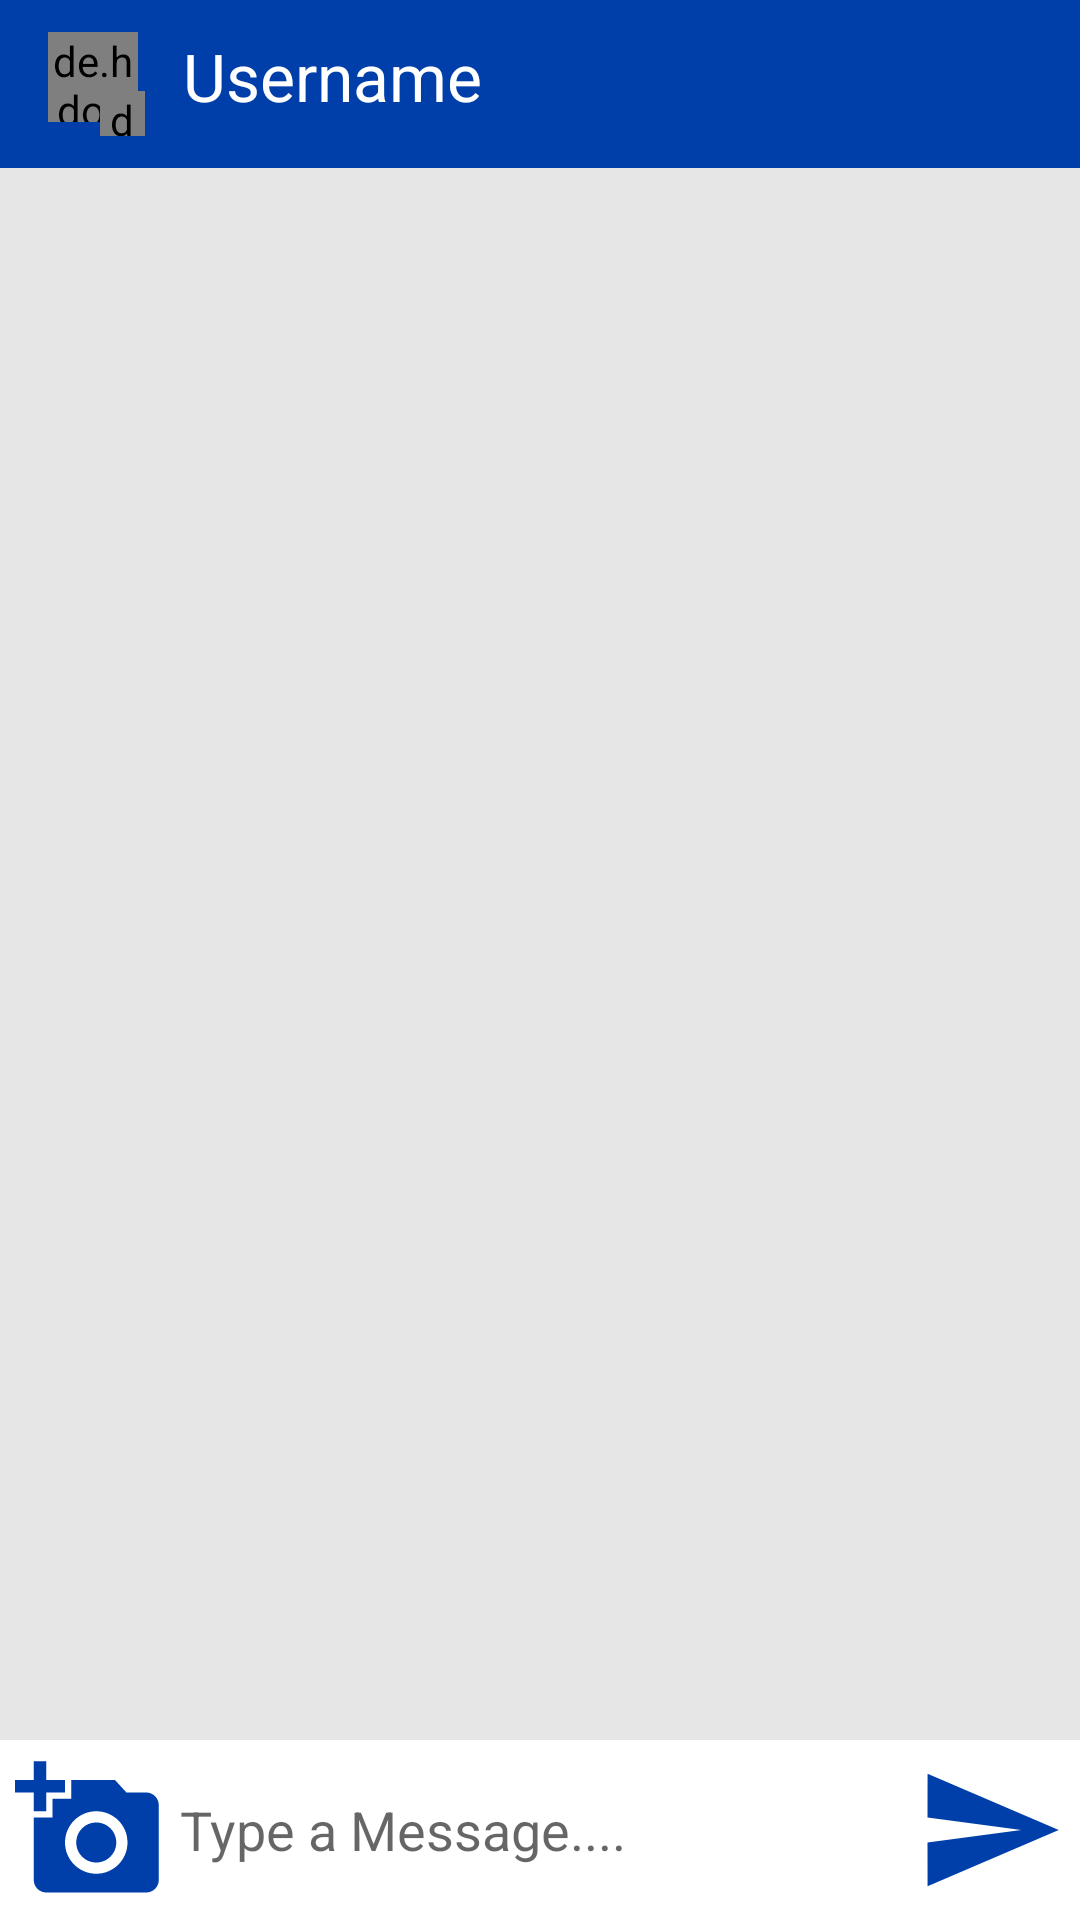

Where icons sit on this 1080 × 1920 app screen, as [x1, y1, x2, y2]:
send: [927, 1774, 1059, 1886]
